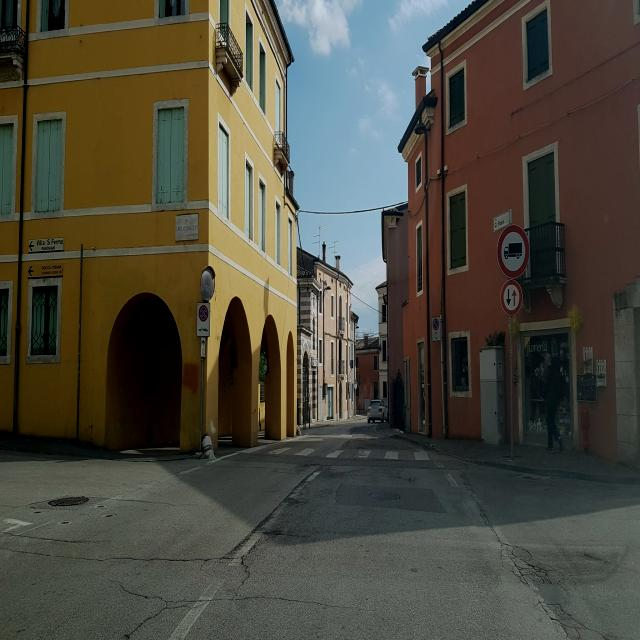car: (367, 398, 388, 424)
